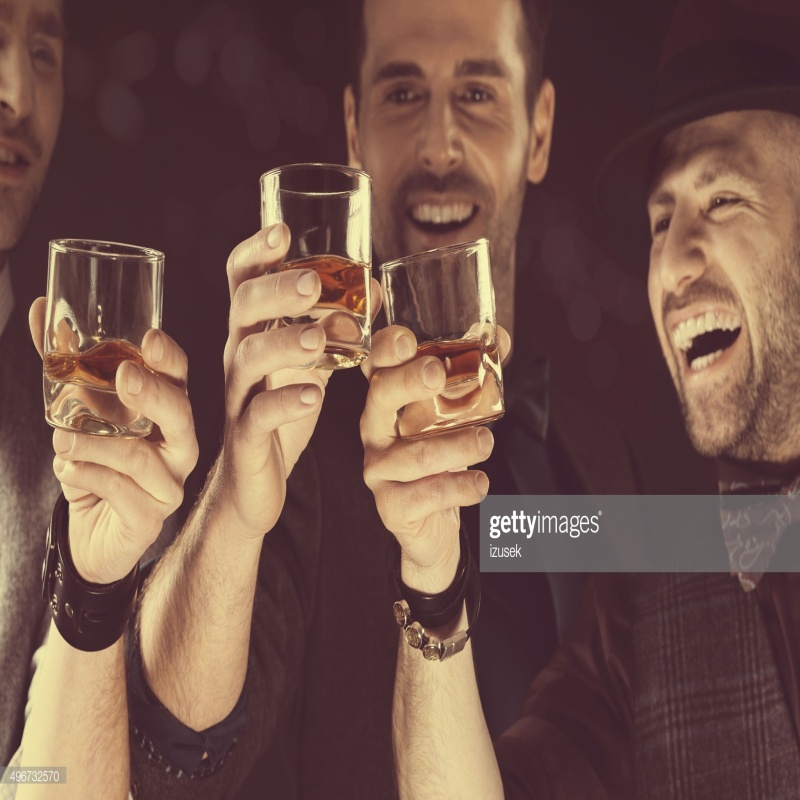whiskey: (31, 235, 173, 433), (258, 161, 380, 358), (383, 250, 511, 420)
